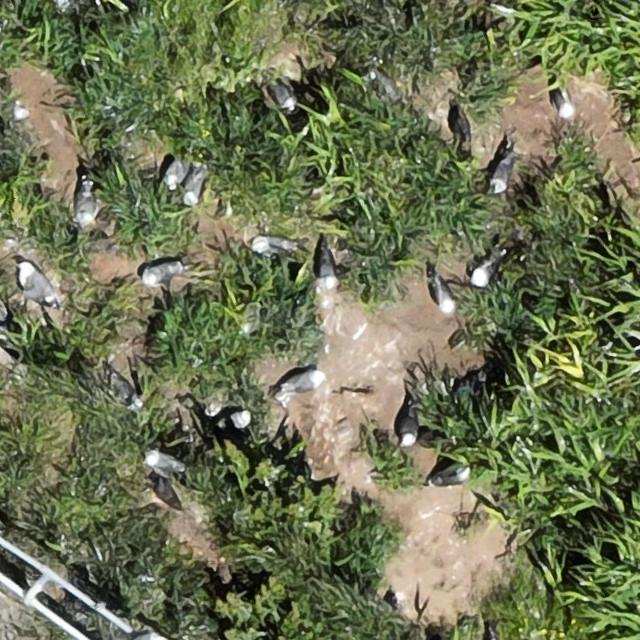umineko: (77, 172, 100, 228), (21, 264, 55, 301), (182, 163, 209, 209), (167, 151, 193, 192), (438, 461, 474, 488), (283, 371, 322, 392), (471, 257, 497, 287), (493, 154, 513, 192), (144, 262, 180, 283), (146, 451, 180, 471), (401, 408, 418, 446), (318, 252, 335, 289), (435, 282, 454, 313), (272, 84, 294, 110), (554, 90, 573, 117), (256, 237, 288, 253), (229, 411, 249, 429)
